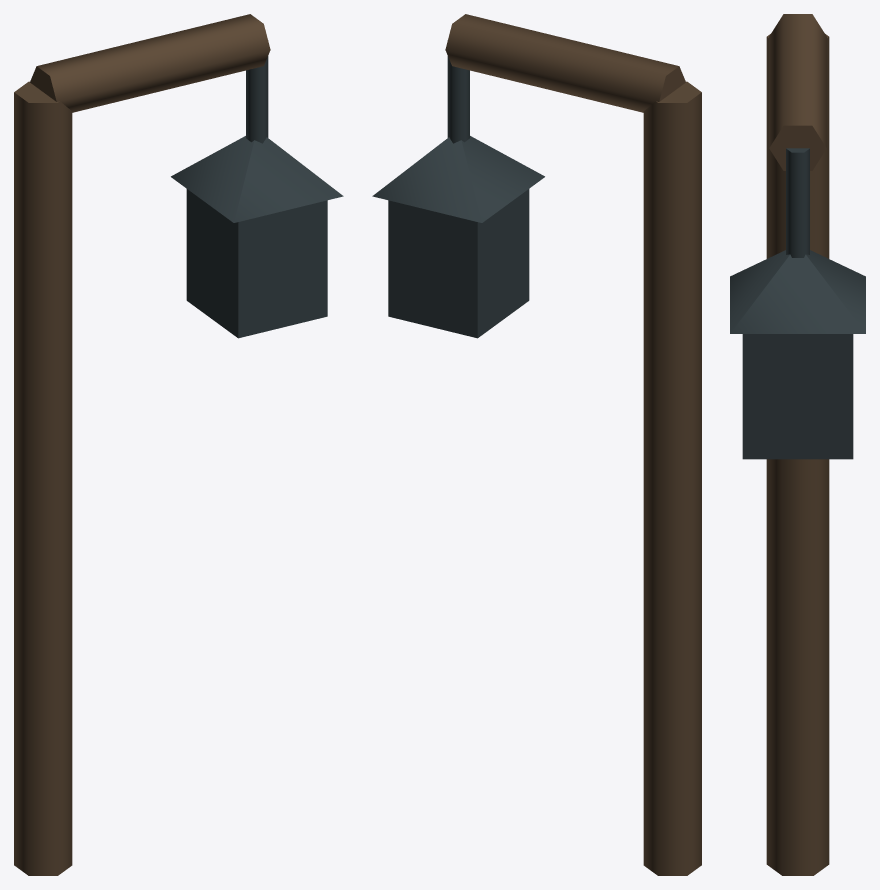
Rendered from lantern-crook.glb.
3 renders of one model, left to right at view 1: azimuth 30°, elevation 25°; view 2: azimuth 150°, elevation 25°; view 3: azimuth 270°, elevation 25°, orthographic. The views are drawn at different scales.
Parts seen in each view (by area): view 1: lantern-crook; view 2: lantern-crook; view 3: lantern-crook.
Boxes of the visible parts, x1=… form: lantern-crook: x1=14, y1=14, x2=343, y2=875; lantern-crook: x1=372, y1=14, x2=701, y2=875; lantern-crook: x1=730, y1=14, x2=865, y2=875.
Size of the model in its own units: 0.7477 by 1.95 by 0.2828.
